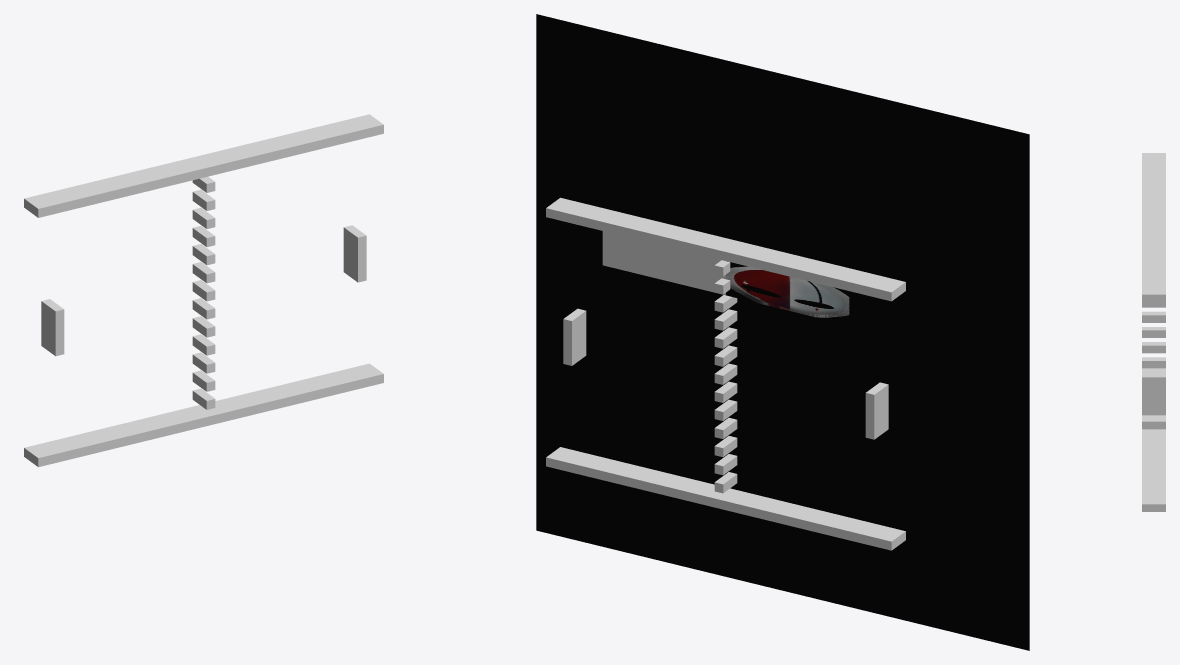
The model's file is Basic.gltf.
The picture shows the model from 3 angles, left to right: view 1: azimuth 30°, elevation 25°; view 2: azimuth 150°, elevation 25°; view 3: azimuth 270°, elevation 25°; orthographic projection. The views are drawn at different scales.
Parts seen in each view (by area): view 1: top, Bottom, PaddleLeft, PaddleRight; view 2: background, top, Bottom, ScoreLeft, ScoreRight, PaddleRight, PaddleLeft; view 3: top, Bottom, PaddleRight, middleDivision7, middleDivision8, middleDivision12, middleDivision13, Ball.
Boxes of the visible parts, x1,y1,x2,y2 form: top: (24, 114, 383, 217); Bottom: (24, 363, 383, 467); PaddleLeft: (41, 299, 64, 356); PaddleRight: (343, 225, 366, 282); background: (536, 14, 1029, 650); top: (546, 197, 905, 301); Bottom: (546, 447, 905, 550); ScoreLeft: (726, 261, 849, 325); ScoreRight: (602, 231, 725, 295); PaddleRight: (563, 308, 586, 365); PaddleLeft: (865, 382, 888, 439); top: (1142, 153, 1165, 302); Bottom: (1142, 368, 1165, 511); PaddleRight: (1142, 374, 1165, 415); middleDivision7: (1142, 342, 1165, 353); middleDivision8: (1142, 357, 1165, 368); middleDivision12: (1142, 418, 1165, 429); middleDivision13: (1142, 311, 1165, 322); Ball: (1142, 327, 1165, 337).
Bounding box in the file's own units: 20 × 20 × 4.5.
3 materials, 1 textured.
